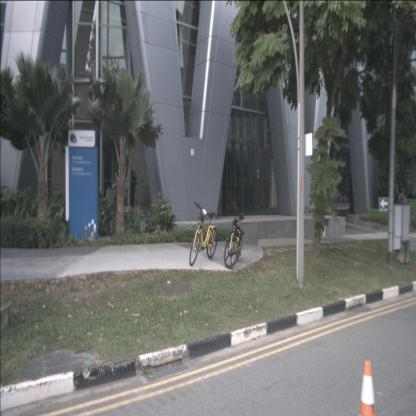human-pedestrian-adult: (397, 187, 407, 234), (130, 170, 137, 209)
movable_object-trafficcone: (353, 359, 384, 416)
vehicle-bicycle: (189, 200, 218, 266), (223, 201, 245, 270)
